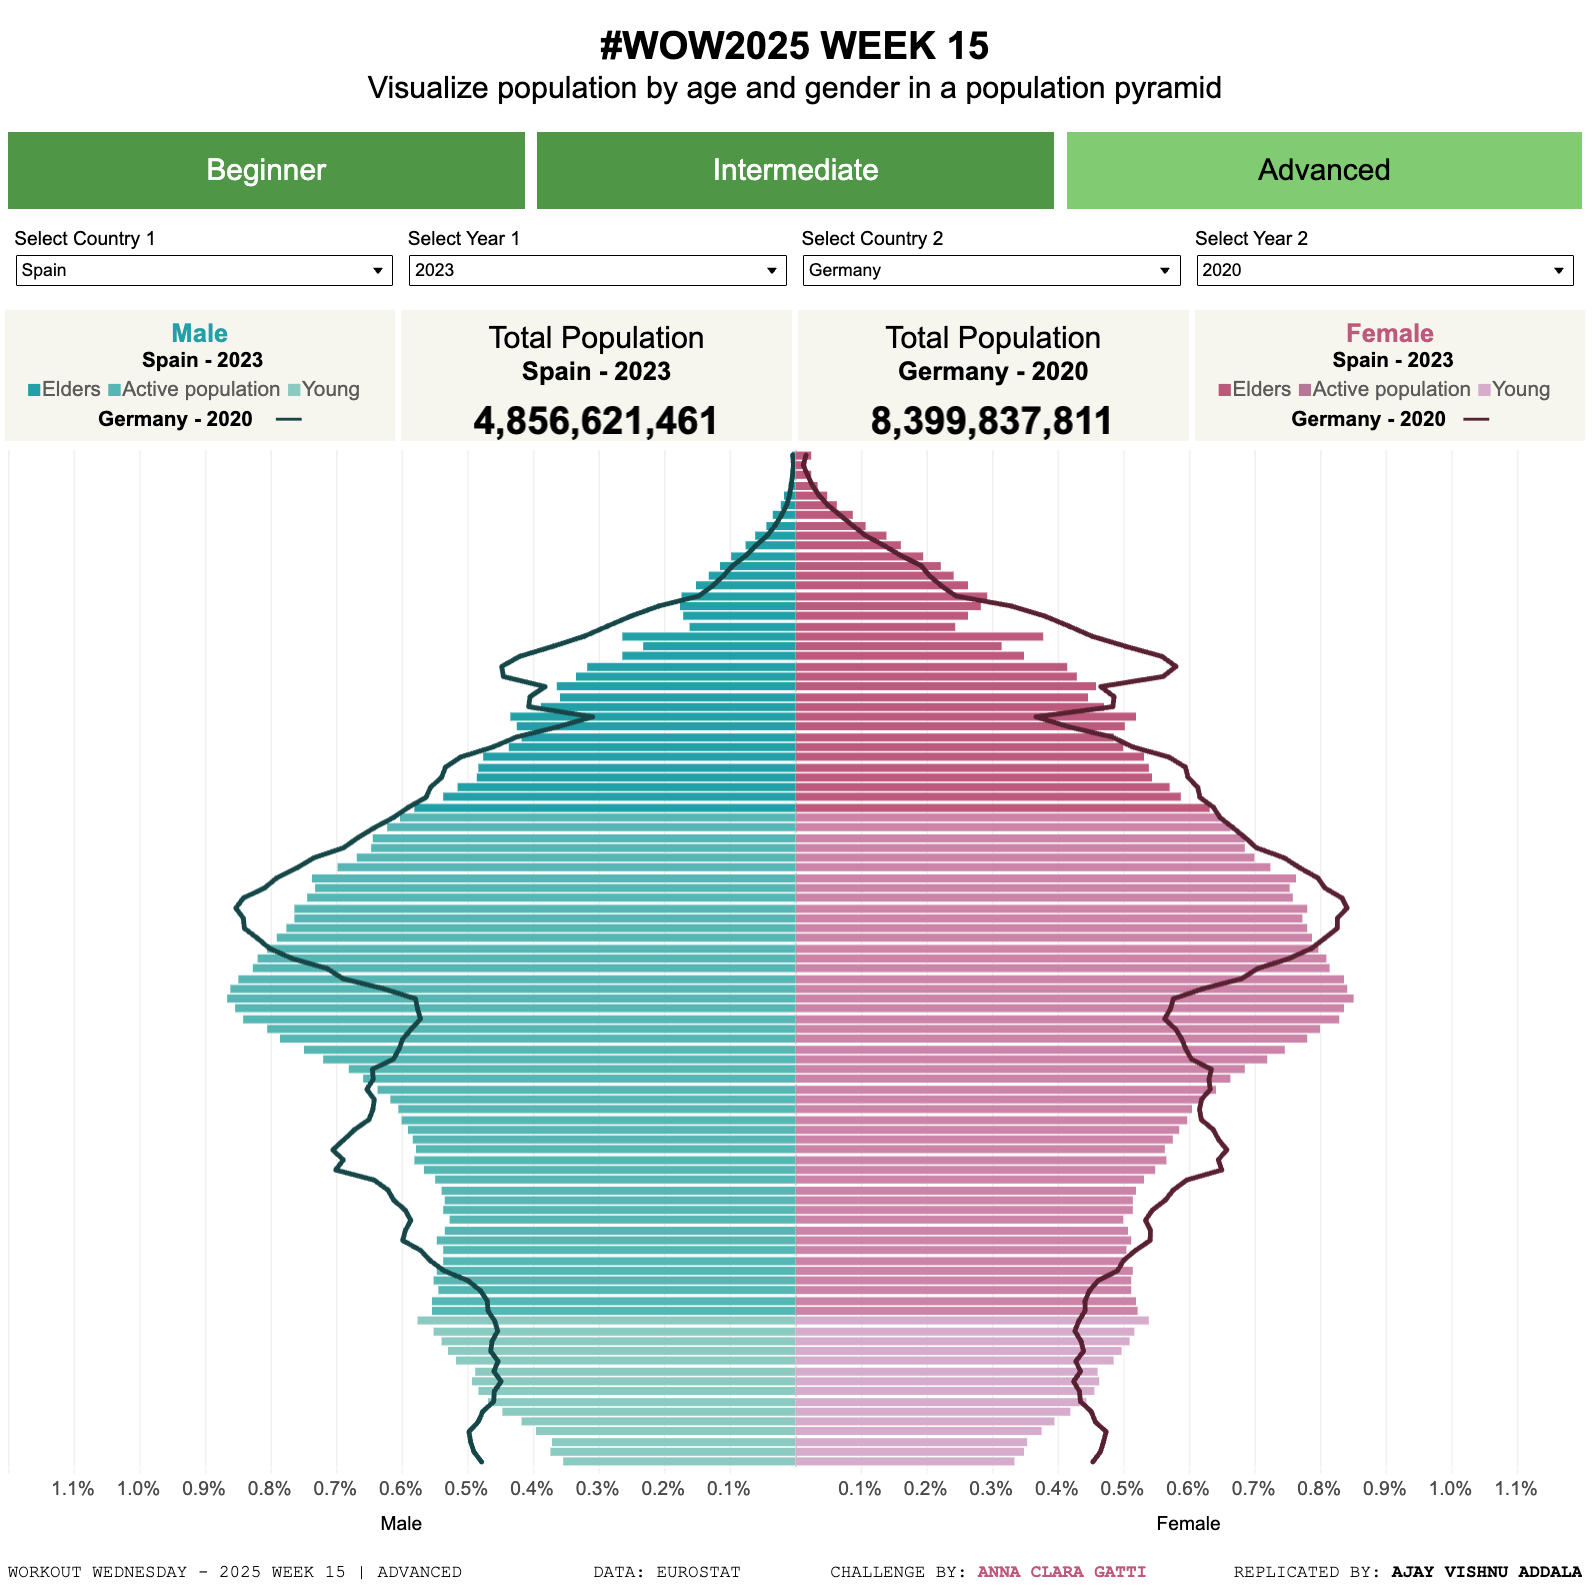

This screenshot's page, from the dashboard's own definition file:
{"tool":"tableau","page":{"name":"Advanced","canvas":[1000,1000],"ordinal":0},"visuals":[{"type":"text","box":[4,4,992,77]},{"type":"dashboard-object","box":[4,81,331,56]},{"type":"dashboard-object","box":[335,81,331,56]},{"type":"dashboard-object","box":[666,81,330,56]},{"type":"parameter","param":"[Parameters].[Parameter 1]","box":[8,141,246,49]},{"type":"parameter","param":"[Parameters].[Parameter 2]","box":[254,141,246,49]},{"type":"parameter","param":"[Parameters].[Country 1 (copy)_1491395230789935108]","box":[500,141,246,49]},{"type":"parameter","param":"[Parameters].[Year 1 (copy)_1491395230790295557]","box":[746,141,246,49]},{"type":"text","box":[4,194,248,86]},{"type":"worksheet","title":"Total_1","mark":"Automatic","box":[252,194,248,86]},{"type":"worksheet","title":"Total_2","mark":"Automatic","box":[500,194,248,86]},{"type":"text","box":[748,194,248,86]},{"type":"worksheet","title":"Viz_Advanced","mark":"Automatic","rows":["Order (copy)_1648036046579888128"],"cols":["Calculation_1491395230791237640","c_Male/Total_1 (copy)_1491395230791761929","c_Male/Total_1 (copy)_1491395230791843850","c_Female/Total_1 (copy)_1491395230791942155"],"box":[4,280,992,692]},{"type":"text","box":[4,972,340,24]},{"type":"text","box":[344,972,152,24]},{"type":"text","box":[496,972,250,24]},{"type":"text","box":[746,972,250,24]}]}

Visuals, with their boxes in screenshot pixels (x1, y1, x2, y2), scaled from the page's 1000x1000 canvas onto the 1592x1590 screenshot:
text: 6/6/1586/129
dashboard-object: 6/129/533/218
dashboard-object: 533/129/1060/218
dashboard-object: 1060/129/1586/218
parameter: 13/224/404/302
parameter: 404/224/796/302
parameter: 796/224/1188/302
parameter: 1188/224/1579/302
text: 6/308/401/445
"Total_1" worksheet: 401/308/796/445
"Total_2" worksheet: 796/308/1191/445
text: 1191/308/1586/445
"Viz_Advanced" worksheet: 6/445/1586/1545
text: 6/1545/548/1584
text: 548/1545/790/1584
text: 790/1545/1188/1584
text: 1188/1545/1586/1584
